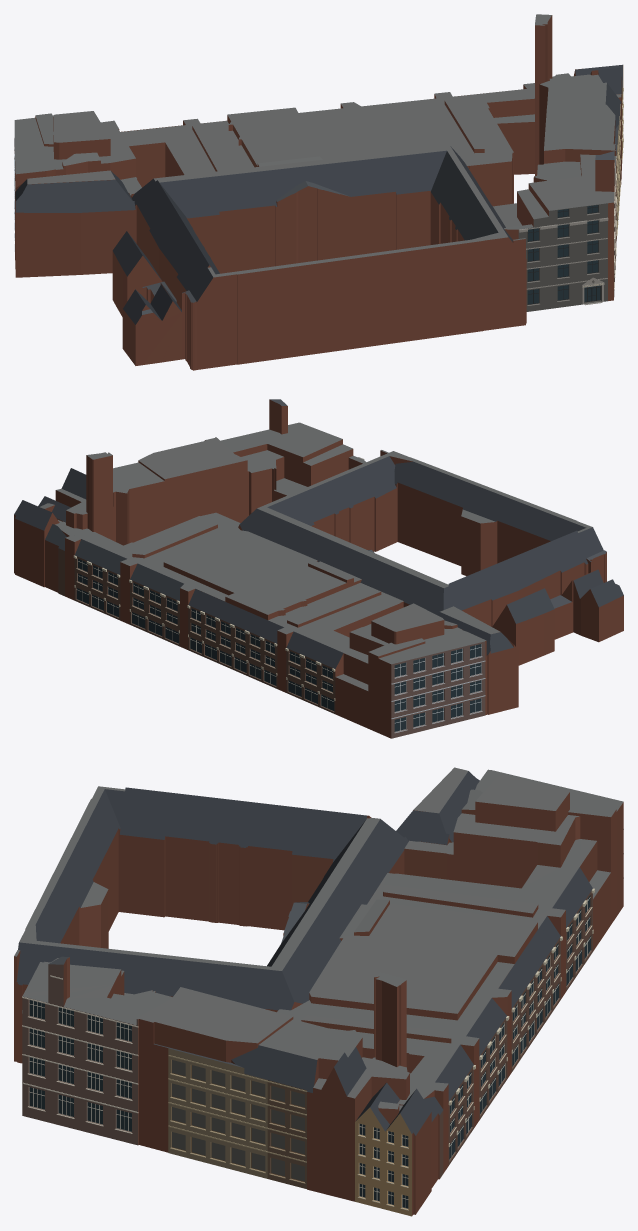
The model's file is recipe-large-kloveniersburgwal-72-171179.glb.
3 views of the same model, one above another, from view 1: azimuth 30°, elevation 25°; view 2: azimuth 150°, elevation 25°; view 3: azimuth 270°, elevation 25° (orthographic). The views are drawn at different scales.
Visible parts, largest first — view 1: kloveniersburgwal-72-171179; view 2: kloveniersburgwal-72-171179; view 3: kloveniersburgwal-72-171179.
Part boxes in pixels (x1,y1,x2,y2): kloveniersburgwal-72-171179: [14, 14, 623, 370]; kloveniersburgwal-72-171179: [14, 399, 623, 738]; kloveniersburgwal-72-171179: [14, 767, 623, 1216].
Size of the model in its own units: 112 by 27.1 by 81.42.
